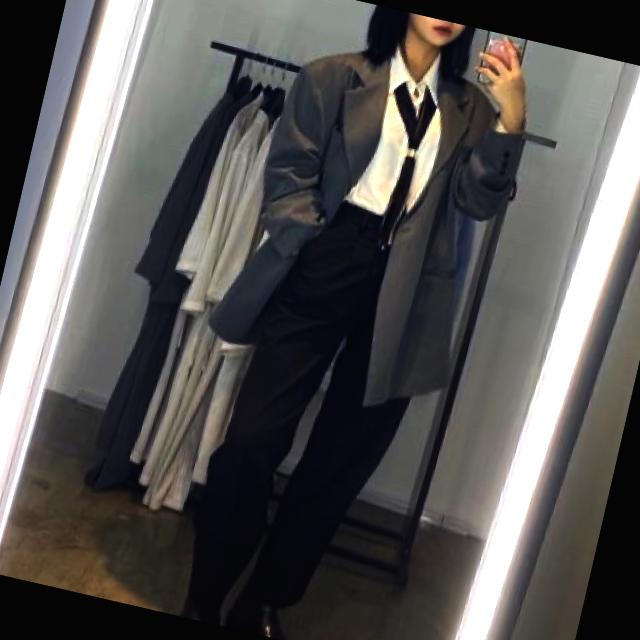blazer: (200, 16, 542, 427)
shirt: (336, 38, 467, 235)
slacks: (176, 183, 453, 640)
